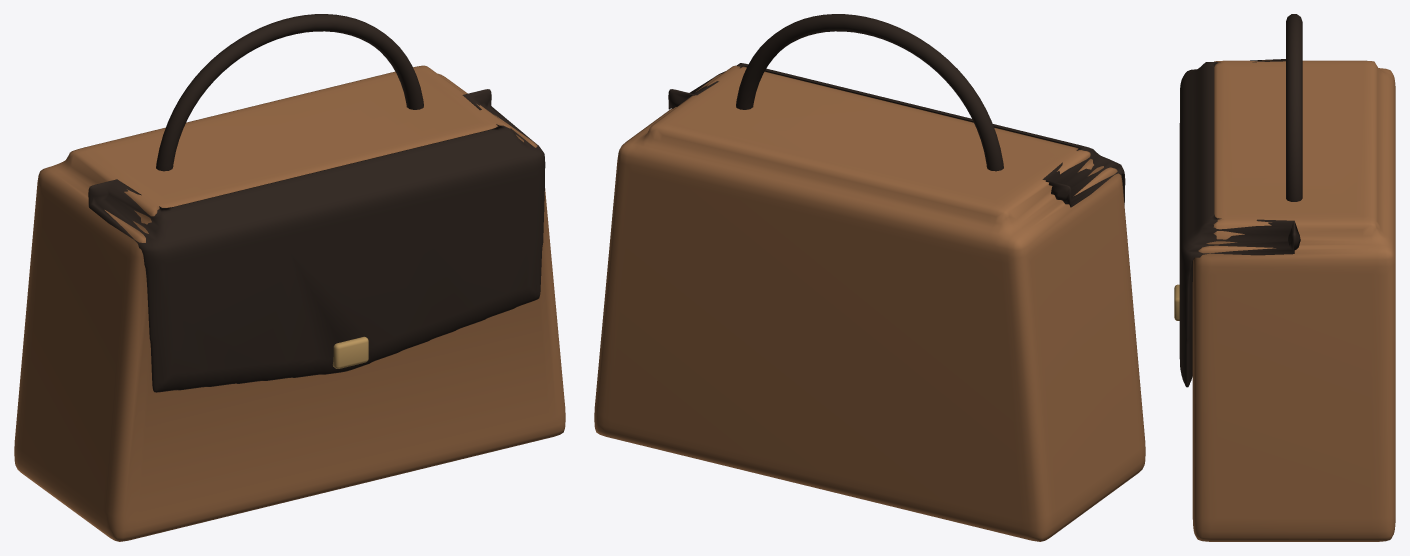
Rendered from bag-balanced-cd93337105.glb.
3 renders of one model, left to right at view 1: azimuth 30°, elevation 25°; view 2: azimuth 150°, elevation 25°; view 3: azimuth 270°, elevation 25°, orthographic. The views are drawn at different scales.
Parts seen in each view (by area): view 1: bag; view 2: bag; view 3: bag.
Boxes of the visible parts, bbox=[...] form: bag: bbox=[14, 14, 565, 541]; bag: bbox=[594, 14, 1145, 541]; bag: bbox=[1174, 14, 1395, 541].
Size of the model in its own units: 0.27 by 0.2467 by 0.12.
